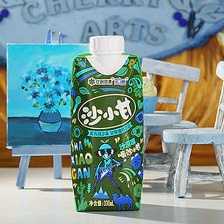carton: (65, 32, 148, 218)
